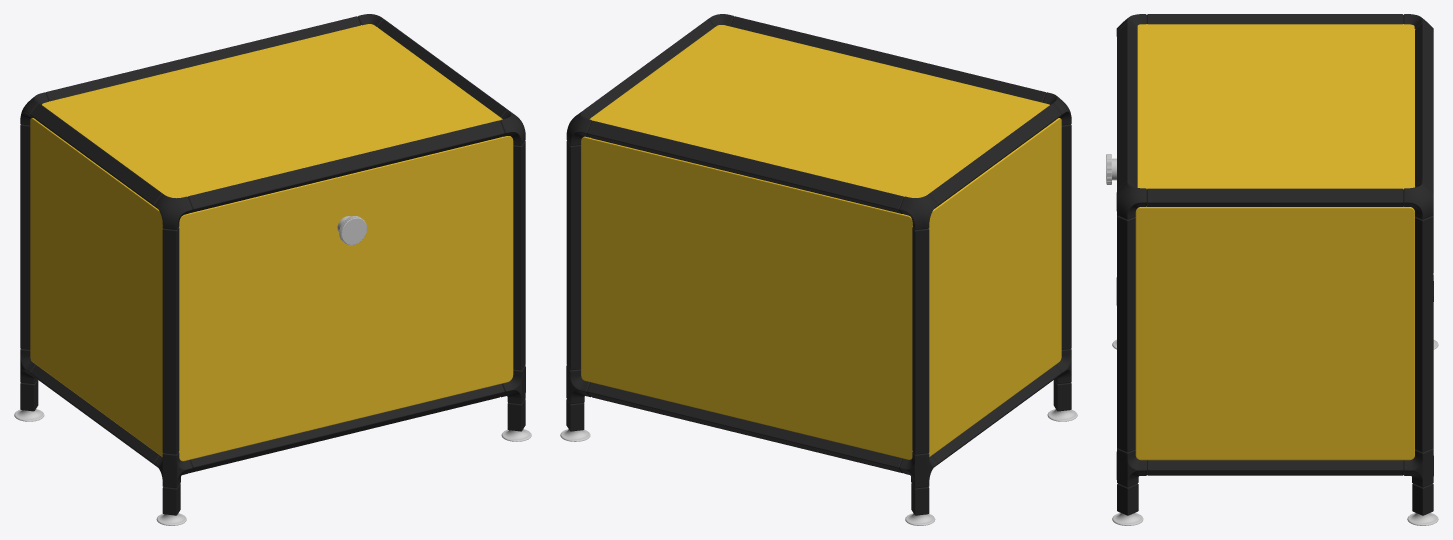
3 views of the same model, side by side, from view 1: azimuth 30°, elevation 25°; view 2: azimuth 150°, elevation 25°; view 3: azimuth 270°, elevation 25° (orthographic). The views are drawn at different scales.
Visible parts, largest first — view 1: 479x329x329; view 2: 479x329x329; view 3: 479x329x329.
Boxes of the visible parts, x1,y1,x2,y2 form: 479x329x329: (14,14,531,525); 479x329x329: (560,14,1077,525); 479x329x329: (1106,14,1438,525).
Size of the model in its own units: 0.5689 by 0.4683 by 0.4257.
